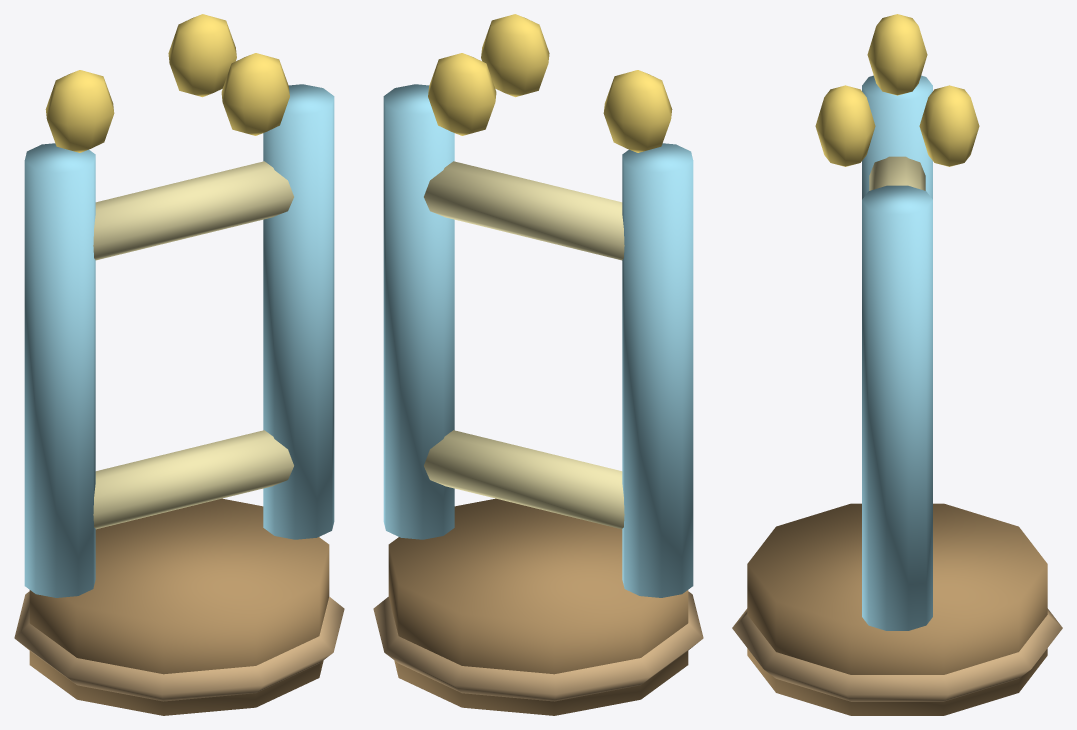
File: star_ladder_young.fbx
3 renders of one model, left to right at view 1: azimuth 30°, elevation 25°; view 2: azimuth 150°, elevation 25°; view 3: azimuth 270°, elevation 25°, orthographic. The views are drawn at different scales.
Visible parts, largest first — view 1: PLQ_star_ladder_young; view 2: PLQ_star_ladder_young; view 3: PLQ_star_ladder_young.
Boxes of the visible parts, box(x1,y1,x2,y2) form: PLQ_star_ladder_young: box(14, 14, 344, 715); PLQ_star_ladder_young: box(373, 14, 703, 715); PLQ_star_ladder_young: box(732, 14, 1062, 715).
Bounding box in the file's own units: 22.98 × 45.38 × 22.5.
